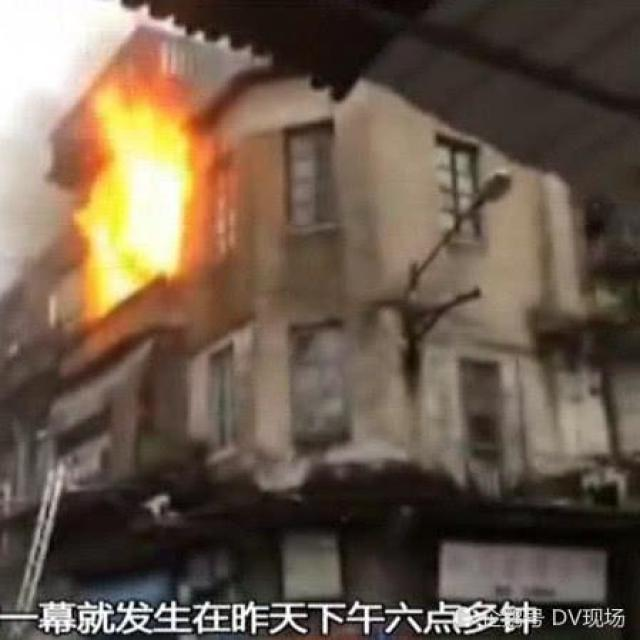Fire: (70, 76, 192, 320)
